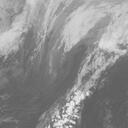cyclone: (47, 30, 99, 89)
